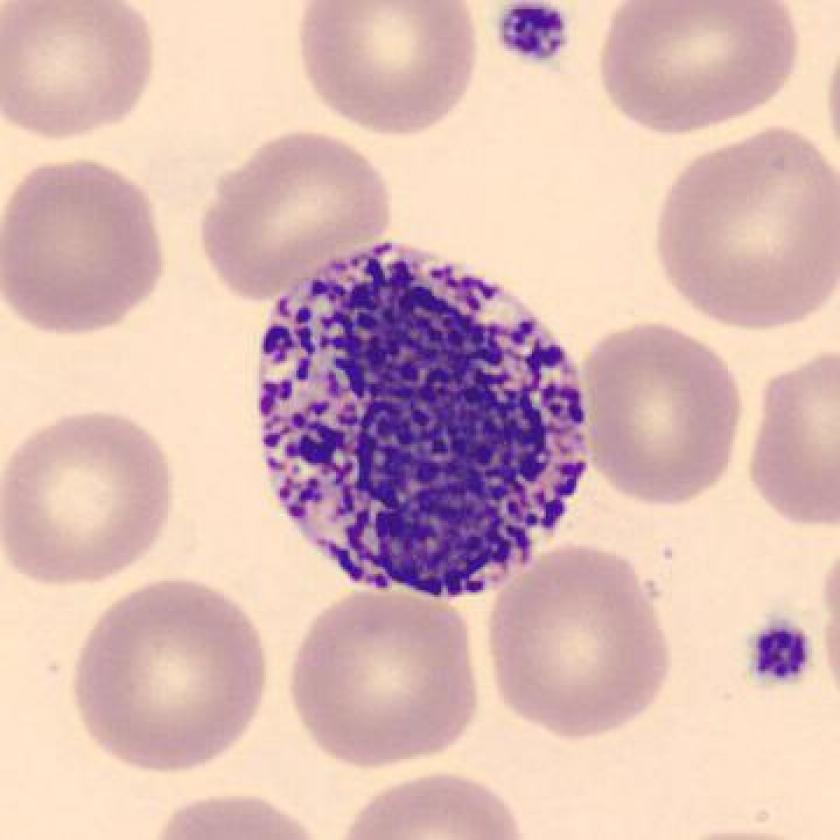basophil: (251, 240, 594, 601)
